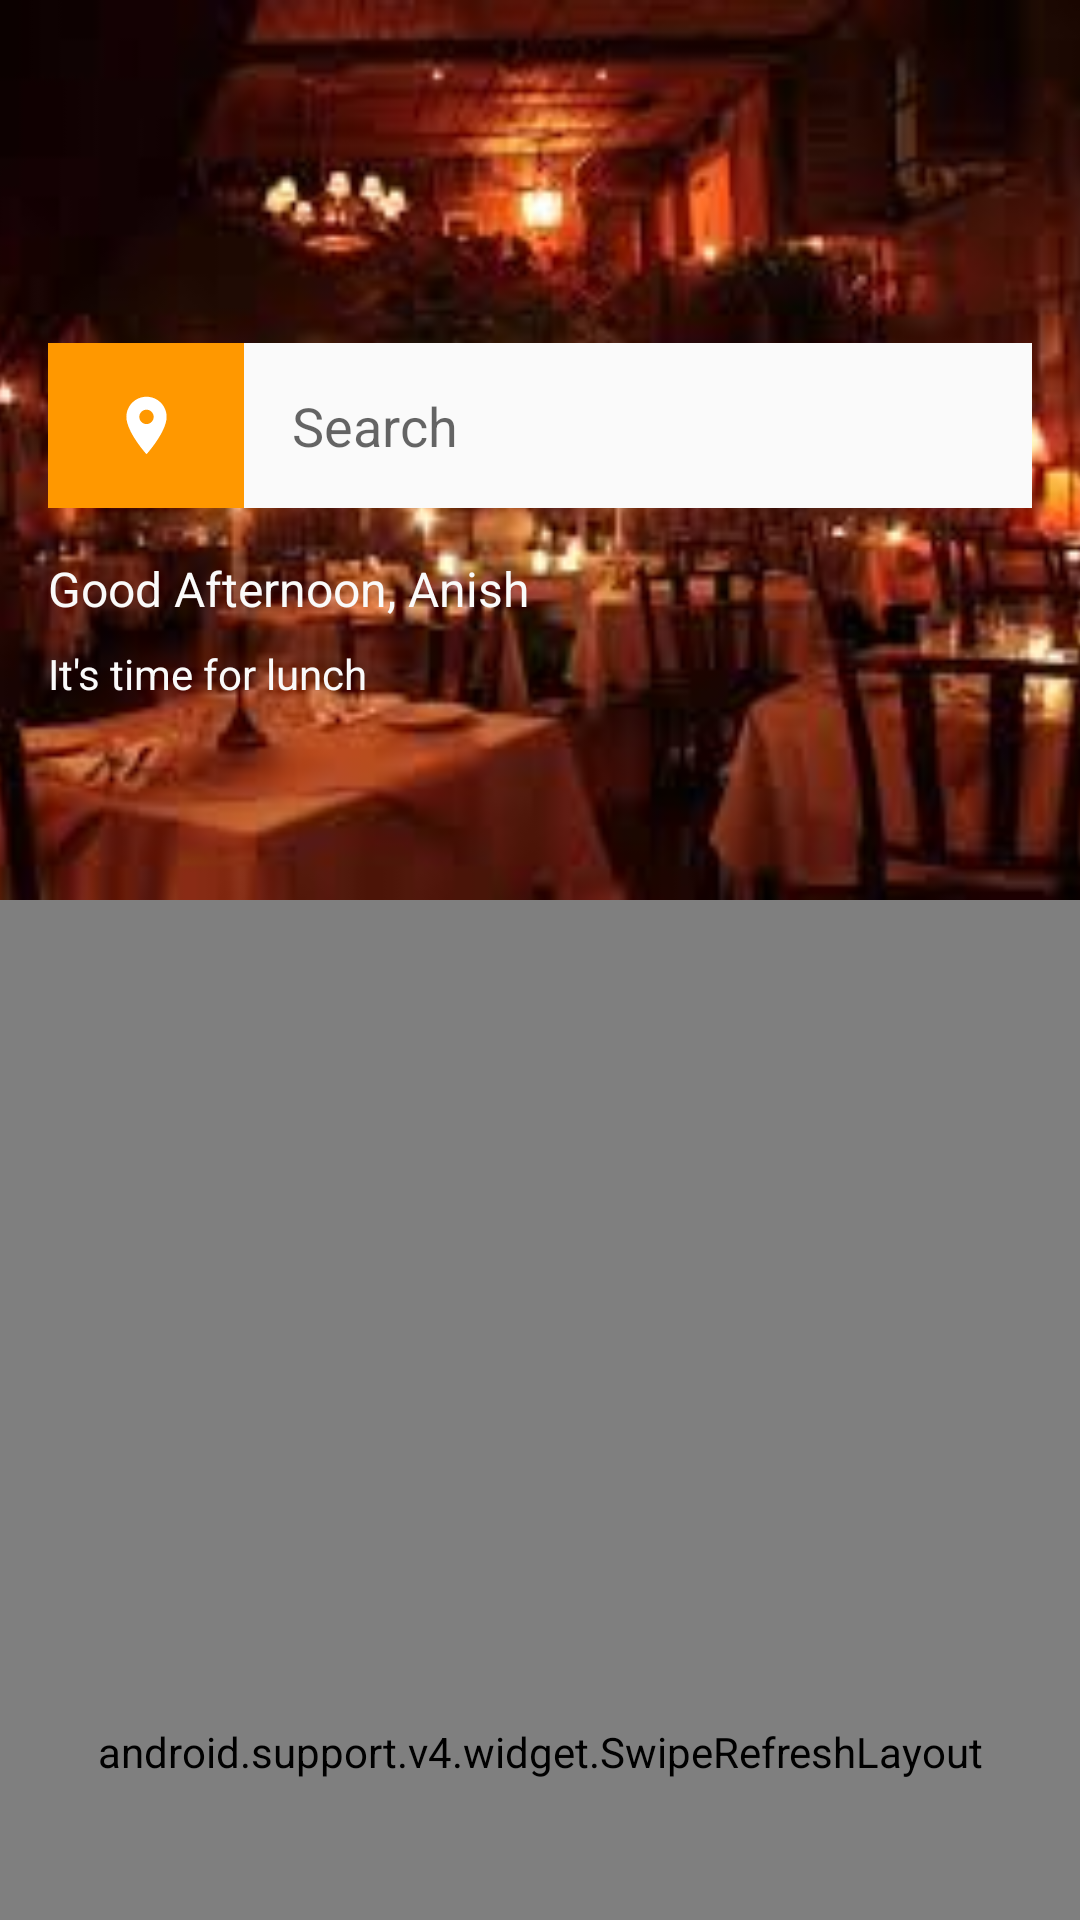

Screen size 1080px×1920px. Icon name, then its center in pixels as (x=x, y=y):
place: (x=146, y=425)
